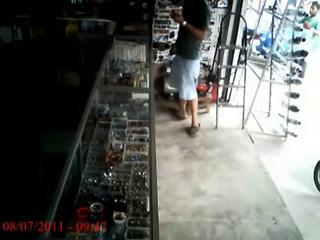shoplifting: (167, 0, 212, 136)
